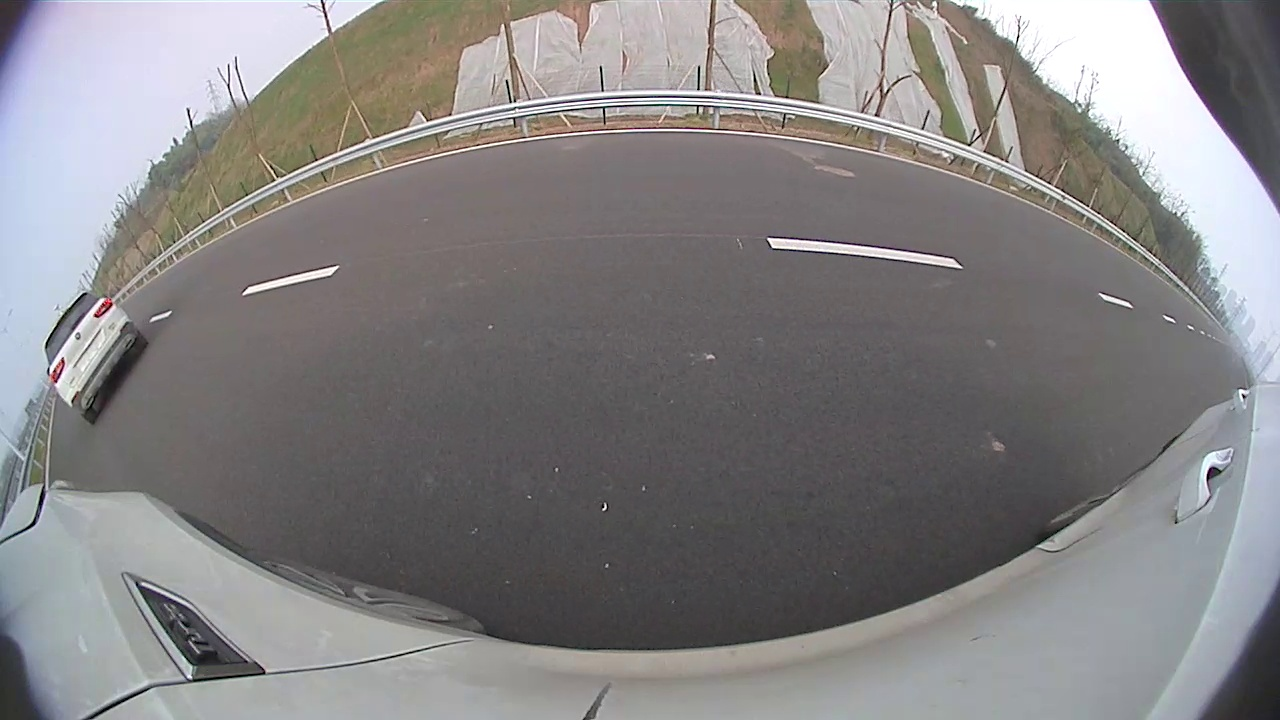car: (372, 122, 566, 252)
front: (548, 176, 562, 211)
rear: (492, 187, 520, 238)
